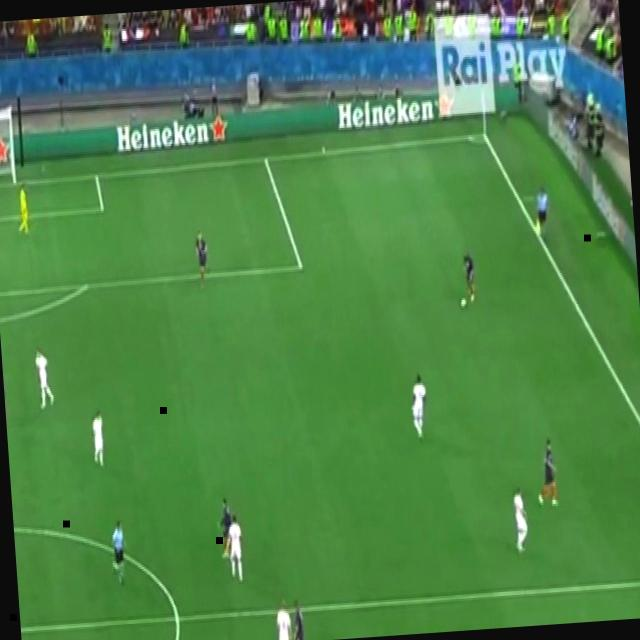ball: (460, 296, 467, 310), (628, 196, 632, 206)
player-white: (533, 436, 561, 510), (221, 514, 247, 586), (407, 372, 431, 443), (33, 344, 57, 414), (107, 518, 129, 589), (511, 485, 531, 555), (214, 496, 235, 560), (192, 228, 211, 292), (89, 408, 107, 469), (534, 183, 552, 244), (271, 594, 293, 640), (15, 181, 31, 239), (461, 246, 477, 304), (287, 598, 305, 640)
